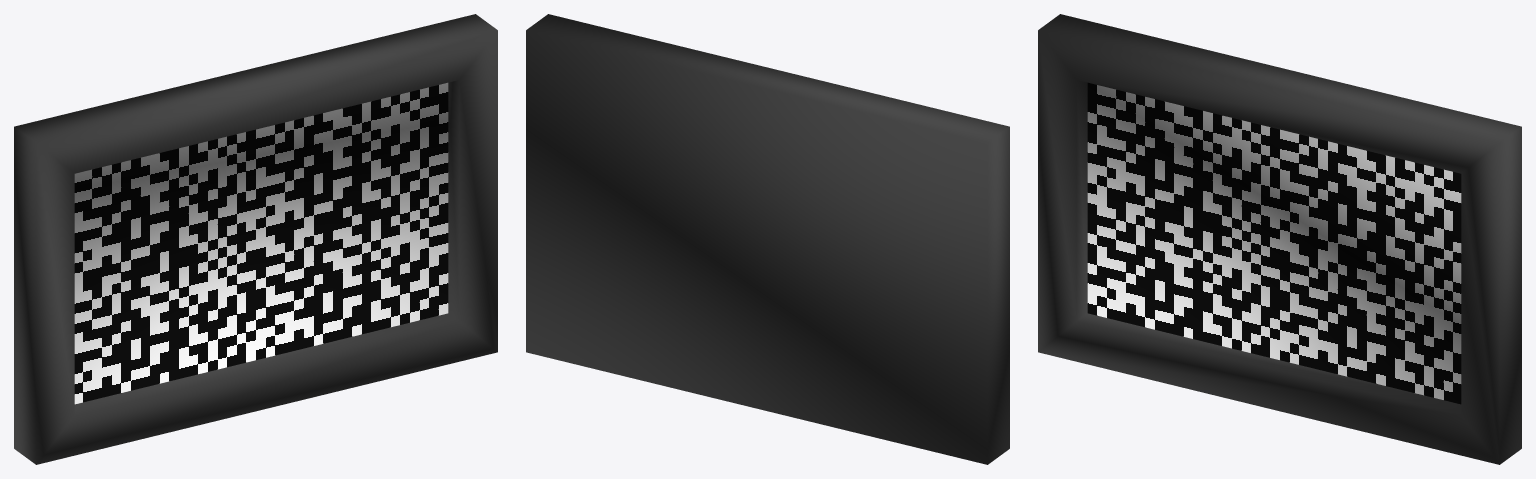
Rendered from FlatTV.fbx.
3 renders of one model, left to right at view 1: azimuth 30°, elevation 25°; view 2: azimuth 150°, elevation 25°; view 3: azimuth 330°, elevation 25°, orthographic.
Parts seen in each view (by area): view 1: Cube; view 2: Cube; view 3: Cube.
Boxes of the visible parts, box(x1,y1,x2,y2) form: Cube: box(14, 14, 497, 464); Cube: box(526, 14, 1009, 464); Cube: box(1038, 14, 1521, 464).
Bounding box in the file's own units: 1.5 × 1 × 0.125.
Materials: 1 (1 with a texture image).
